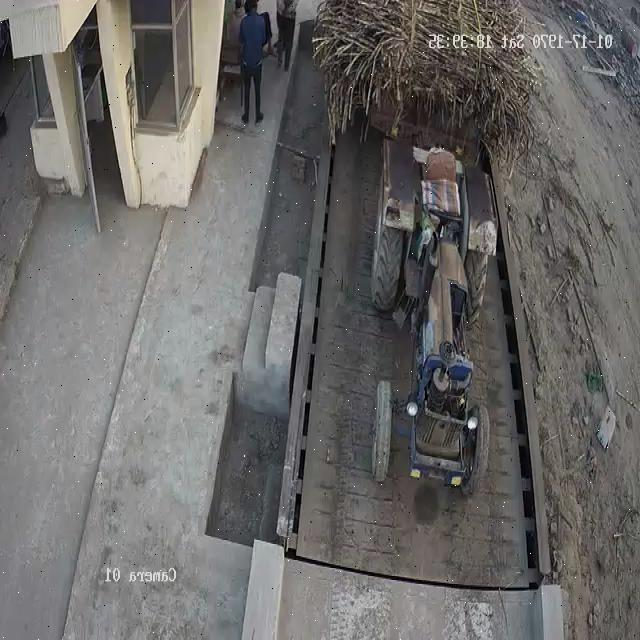Tratores - v5 YOLO V8L 2024-11-13: (364, 128, 503, 503)
